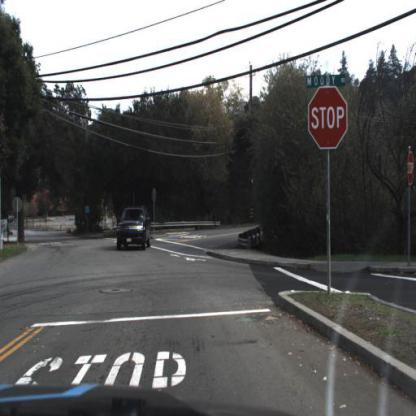car: (112, 205, 152, 254)
